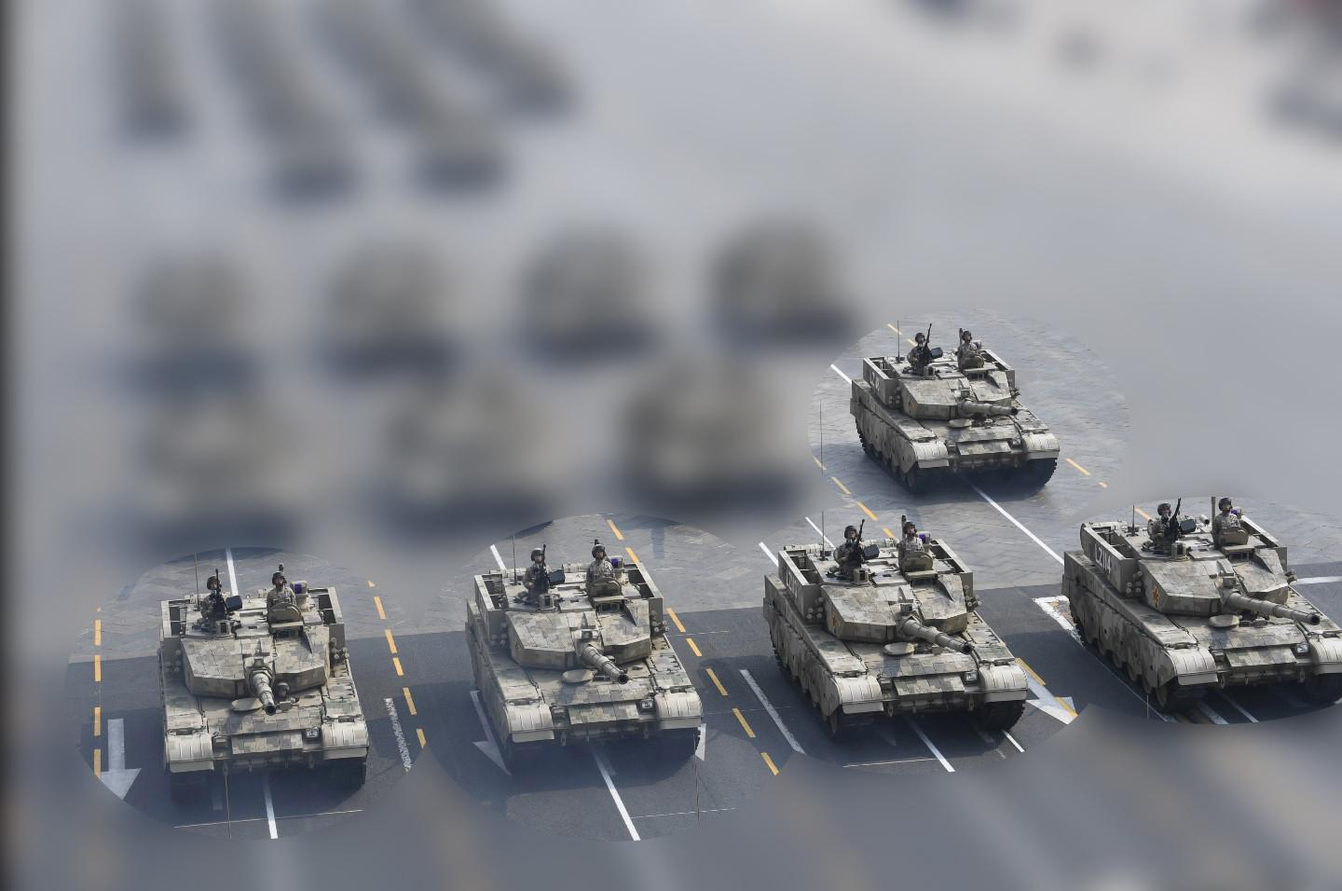tank: (1060, 497, 1342, 724), (762, 509, 1030, 741), (466, 524, 702, 778), (150, 553, 391, 798), (849, 320, 1063, 496)
